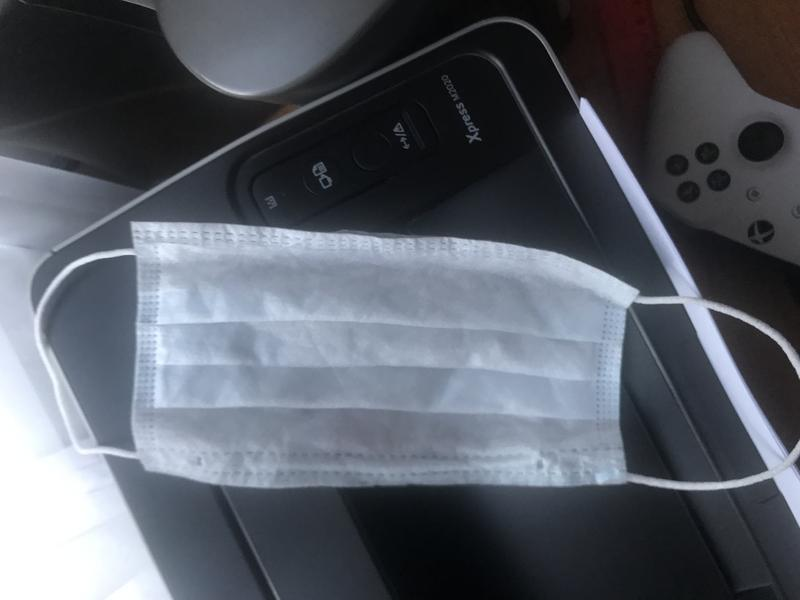medical_mask: (33, 220, 800, 493)
